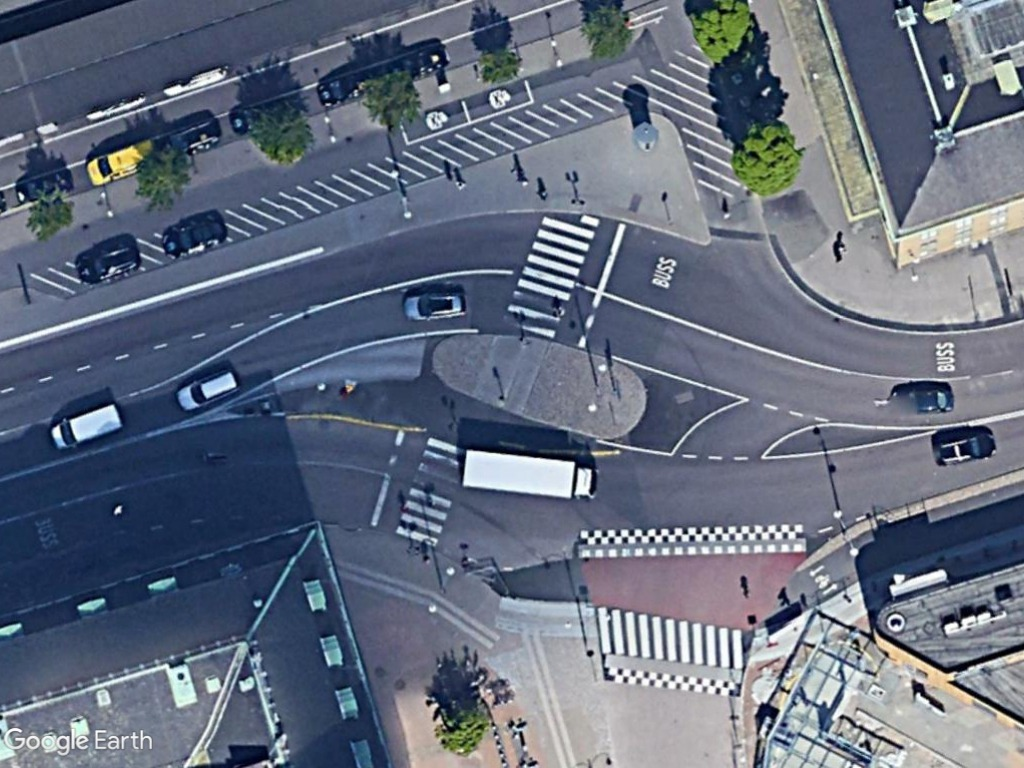car: (156, 210, 232, 262), (173, 364, 244, 417), (71, 240, 150, 286), (931, 425, 1000, 474), (397, 288, 476, 326)
truck: (454, 437, 606, 506)
van: (45, 396, 128, 457)
